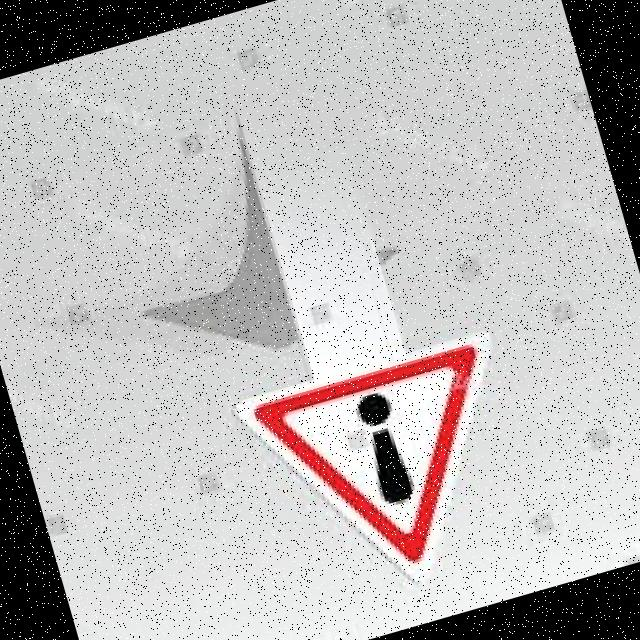warning: (241, 331, 538, 618)
